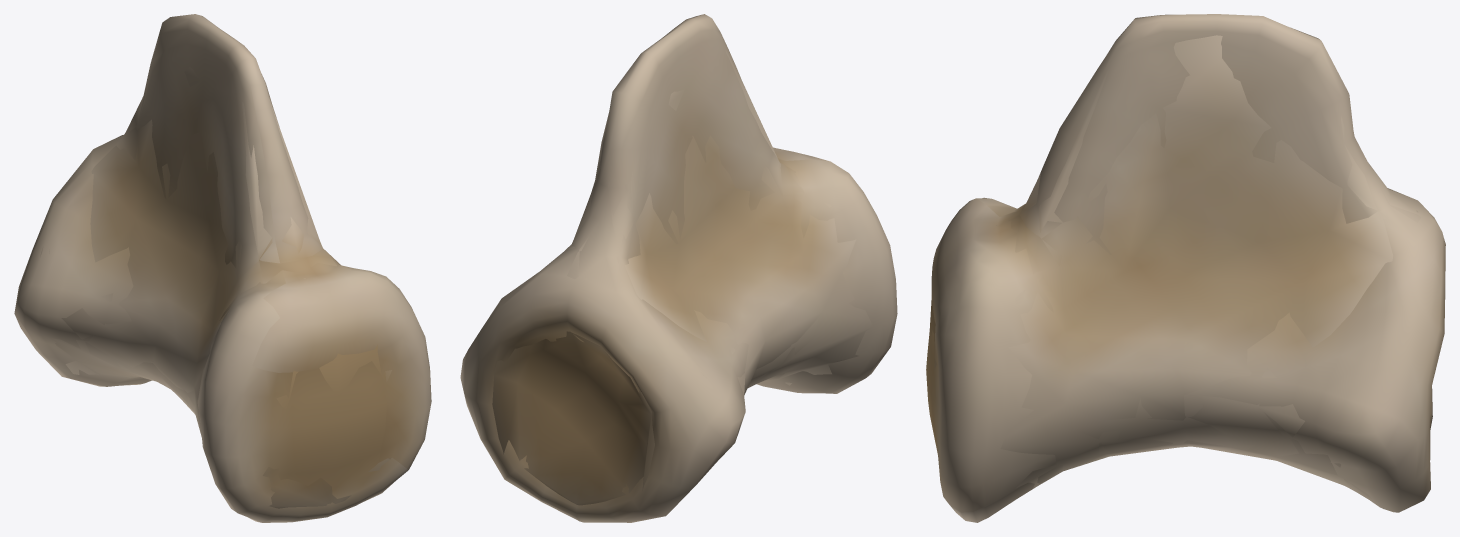
Rendered from vertebrae caudales 01.fbx.
3 renders of one model, left to right at view 1: azimuth 30°, elevation 25°; view 2: azimuth 150°, elevation 25°; view 3: azimuth 270°, elevation 25°, orthographic. The views are drawn at different scales.
Visible parts, largest first — view 1: vertebrae caudales 01, vertebrae caudales 01 low; view 2: vertebrae caudales 01, vertebrae caudales 01 low; view 3: vertebrae caudales 01, vertebrae caudales 01 low.
Part boxes in pixels (x1,y1,x2,y2): vertebrae caudales 01: [14, 14, 431, 522]; vertebrae caudales 01 low: [40, 67, 391, 508]; vertebrae caudales 01: [460, 14, 897, 522]; vertebrae caudales 01 low: [492, 50, 873, 505]; vertebrae caudales 01: [926, 14, 1445, 522]; vertebrae caudales 01 low: [929, 35, 1430, 498].
Bounding box in the file's own units: 3.47 × 5.24 × 5.09.
Materials: 1 (1 with a texture image).
